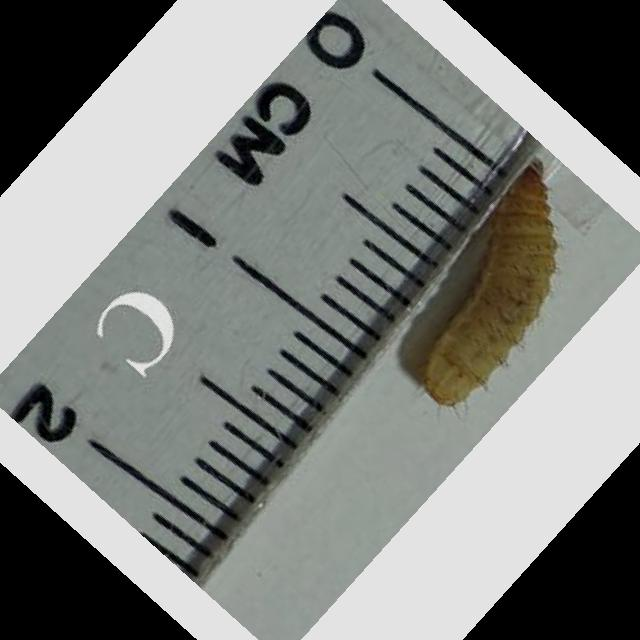Maggot: (419, 158, 557, 413)
